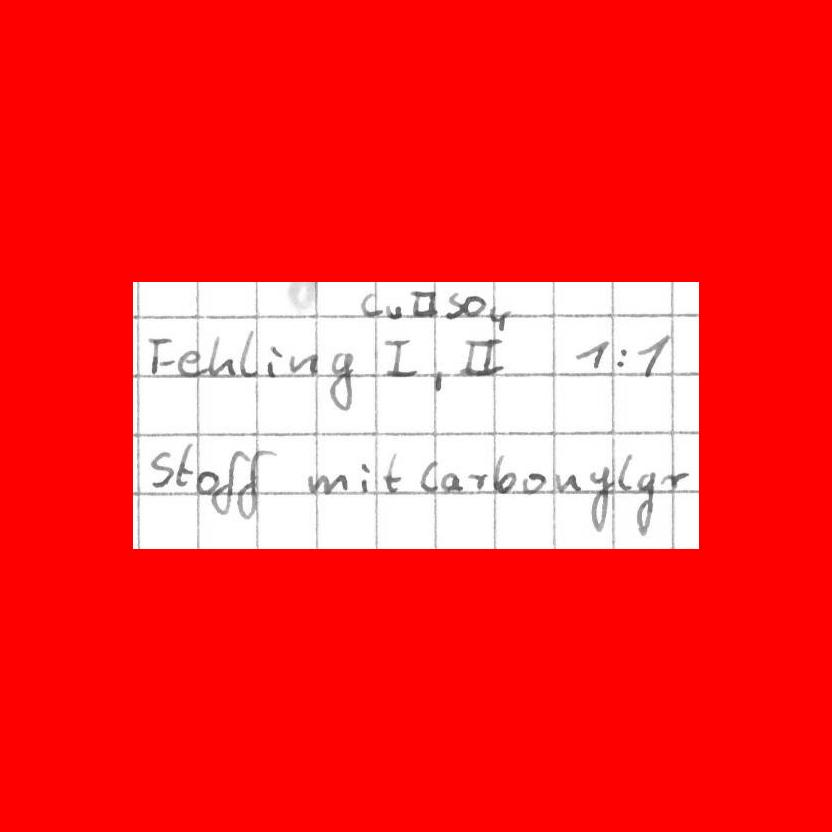Char: (234, 444, 266, 521), (459, 336, 507, 377), (326, 349, 355, 412), (587, 463, 612, 532), (383, 337, 419, 379), (635, 333, 667, 379), (634, 470, 655, 534), (207, 334, 234, 378), (197, 465, 224, 509), (574, 339, 611, 371), (146, 334, 170, 378), (307, 470, 347, 496), (172, 441, 193, 490), (408, 283, 437, 318), (149, 447, 172, 489), (492, 455, 516, 495), (237, 331, 257, 378), (382, 451, 404, 492), (615, 452, 634, 491), (176, 348, 201, 377), (418, 458, 438, 493), (288, 351, 316, 376), (660, 468, 689, 492), (553, 471, 583, 494), (488, 306, 511, 336), (461, 291, 484, 319), (265, 344, 283, 375), (522, 471, 547, 493), (360, 297, 386, 317), (357, 460, 372, 493), (427, 368, 447, 392), (440, 471, 462, 492), (445, 294, 465, 317), (467, 471, 487, 493), (382, 302, 402, 319), (614, 347, 629, 367)
